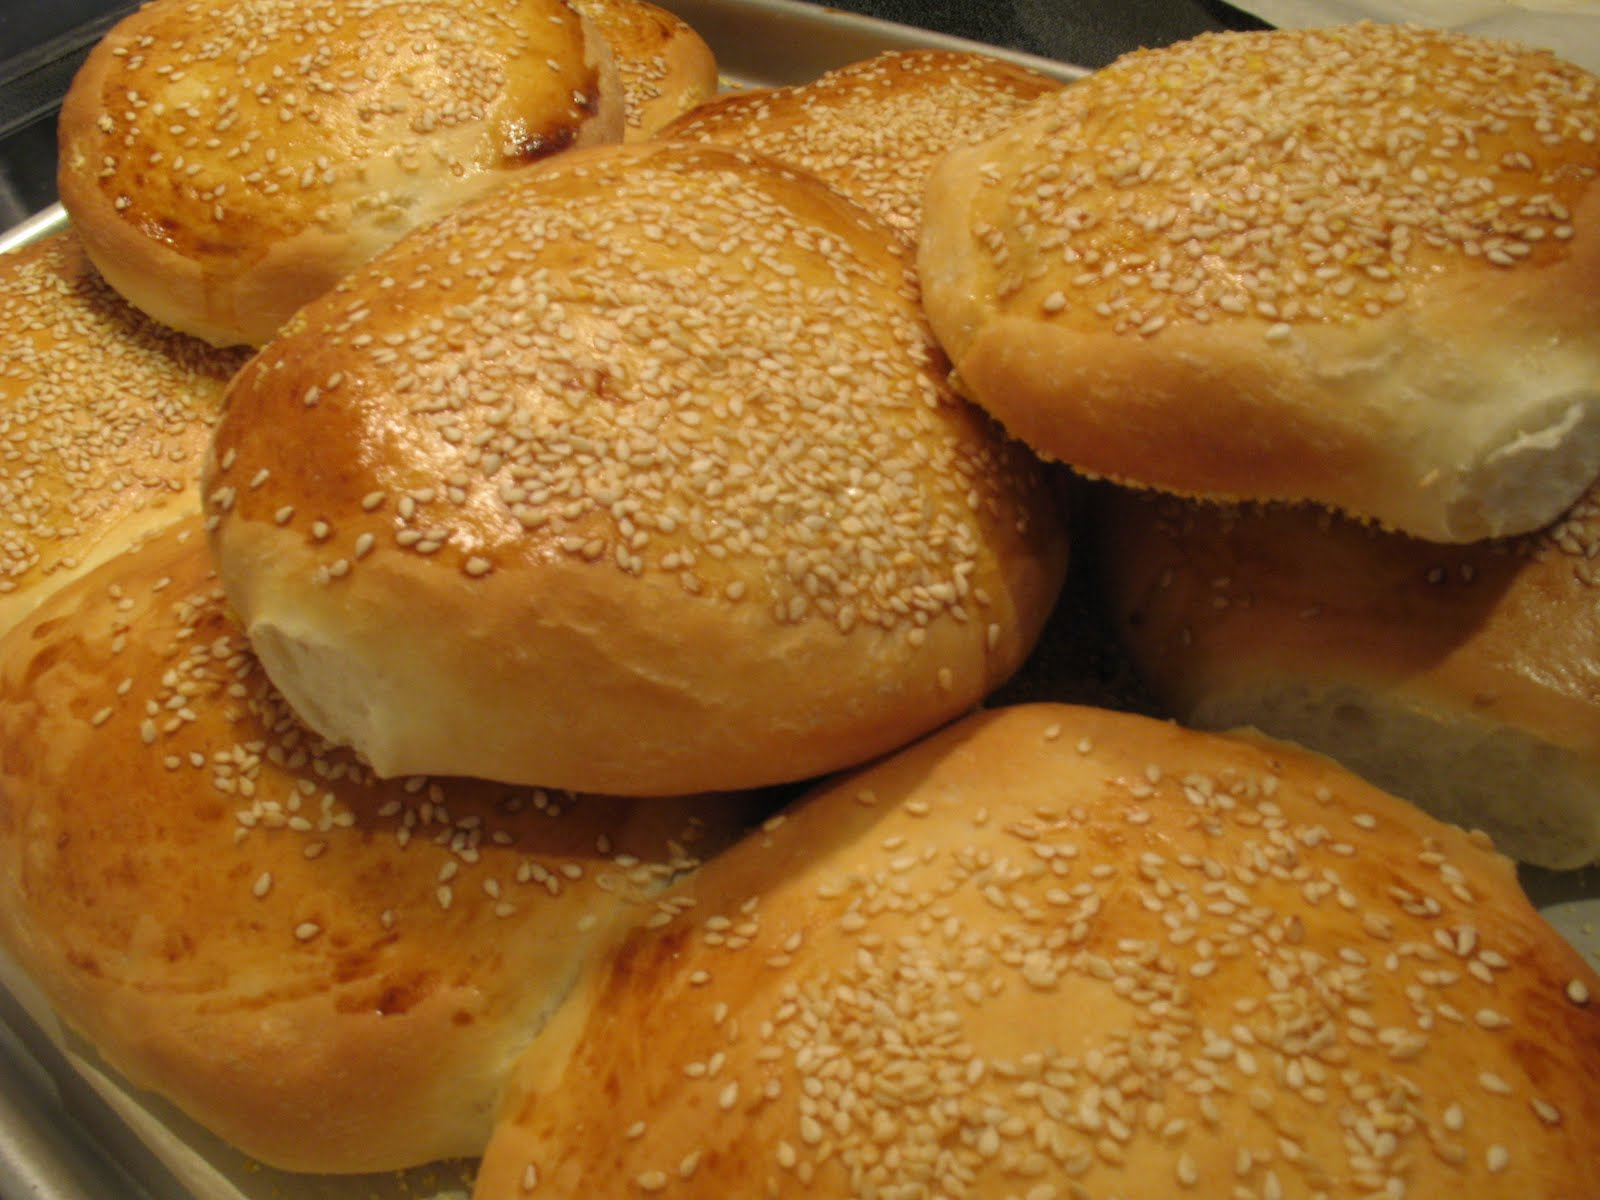hamburger_buns: (267, 124, 1054, 816), (586, 708, 1543, 1200), (894, 14, 1600, 534)
